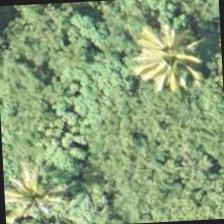Kelapa_Sawit: (120, 5, 216, 100), (2, 147, 81, 223)
